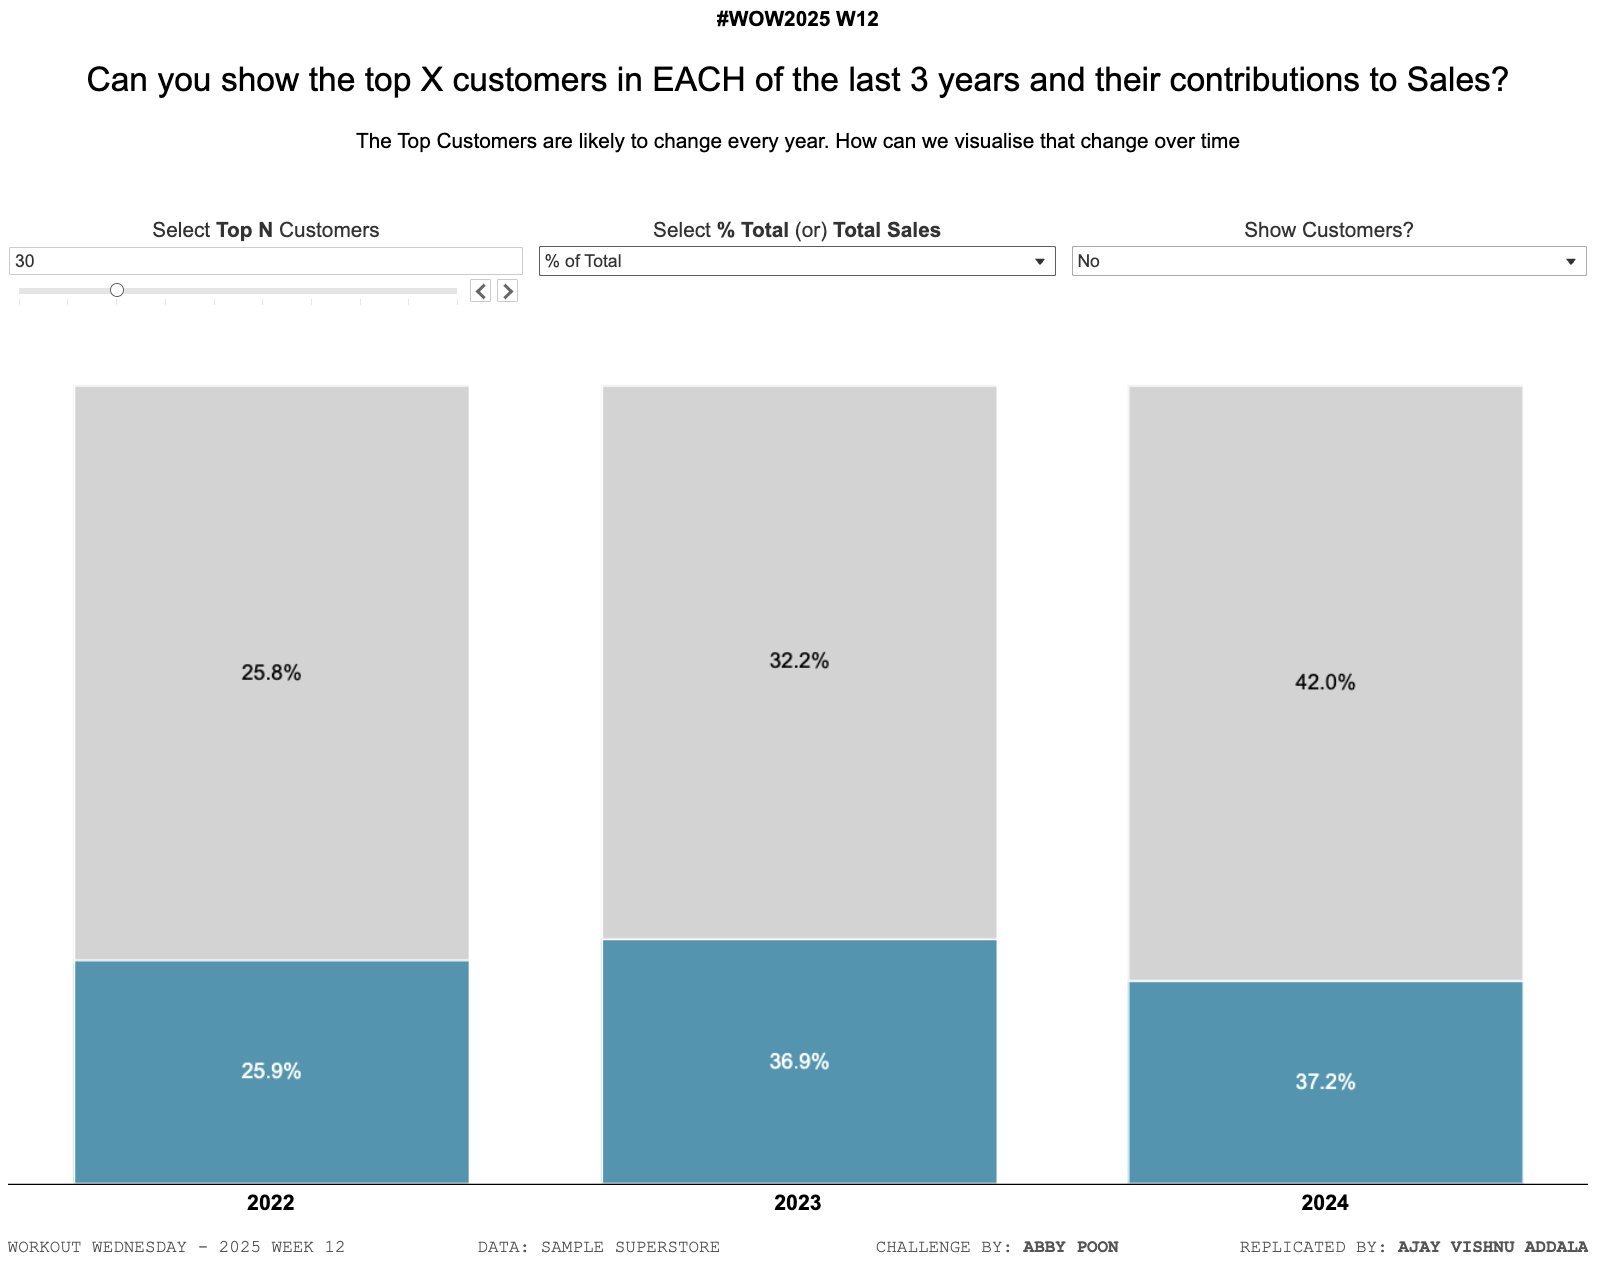

Layout of this report page (visuals, bound fields, positions):
{"tool":"tableau","page":{"name":"WOW2025 W12","canvas":[1000,800],"ordinal":0},"visuals":[{"type":"text","box":[2,2,996,100]},{"type":"parameter","param":"[Parameters].[Parameter 1]","box":[2,135,331,79]},{"type":"parameter","param":"[Parameters].[Parameter 3]","box":[333,135,333,79]},{"type":"parameter","param":"[Parameters].[Parameter 2]","box":[666,135,332,79]},{"type":"worksheet","title":"Viz","mark":"Bar","cols":["Order Date"],"box":[2,214,996,552]},{"type":"text","box":[2,766,249,32]},{"type":"text","box":[251,766,249,32]},{"type":"text","box":[500,766,249,32]},{"type":"text","box":[749,766,249,32]}]}

Visuals, with their boxes in screenshot pixels (x1, y1, x2, y2), scaled from the page's 1000x800 canvas onto the 1602x1276 screenshot:
text: x1=3 y1=3 x2=1599 y2=163
parameter: x1=3 y1=215 x2=533 y2=341
parameter: x1=533 y1=215 x2=1067 y2=341
parameter: x1=1067 y1=215 x2=1599 y2=341
"Viz" worksheet (Bar marks): x1=3 y1=341 x2=1599 y2=1222
text: x1=3 y1=1222 x2=402 y2=1273
text: x1=402 y1=1222 x2=801 y2=1273
text: x1=801 y1=1222 x2=1200 y2=1273
text: x1=1200 y1=1222 x2=1599 y2=1273
